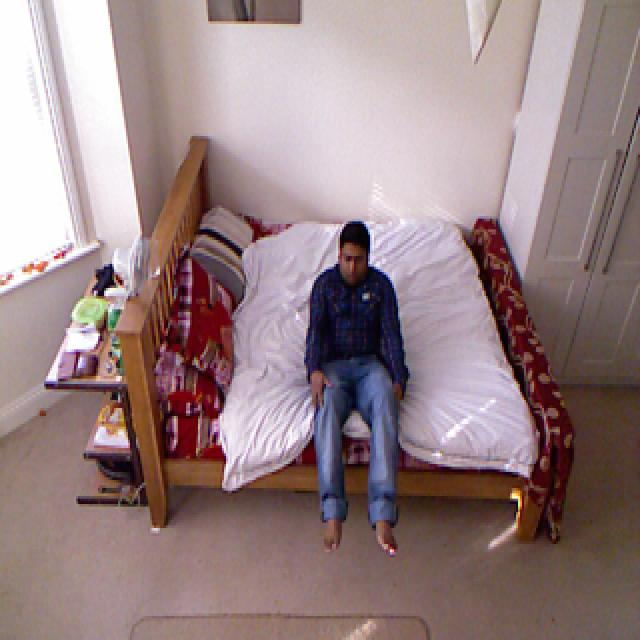sitting: (304, 220, 408, 555)
